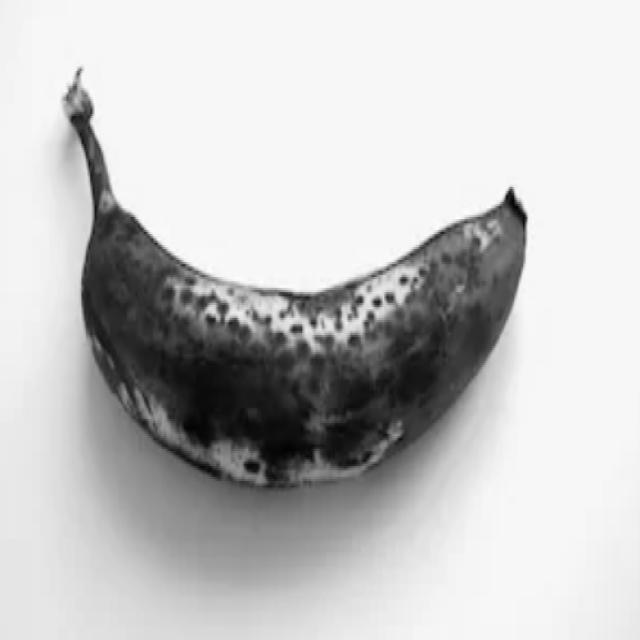Rotten: (54, 63, 538, 512)
